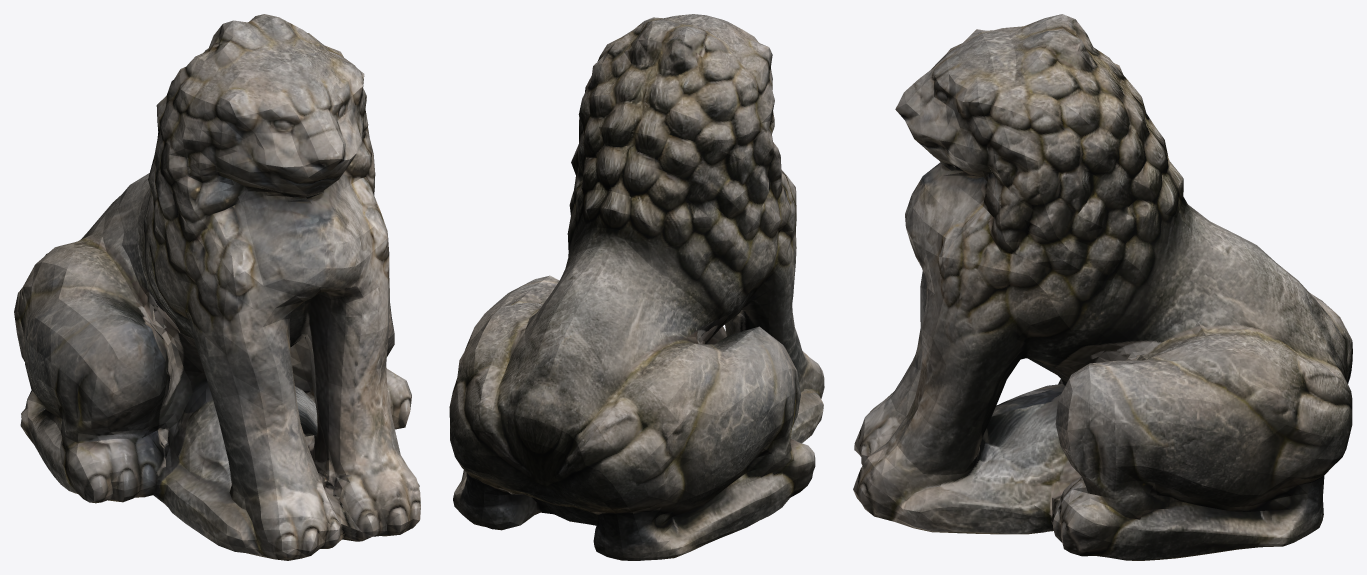
Rendered from statue.fbx.
3 renders of one model, left to right at view 1: azimuth 30°, elevation 25°; view 2: azimuth 150°, elevation 25°; view 3: azimuth 270°, elevation 25°, orthographic. The views are drawn at different scales.
Parts seen in each view (by area): view 1: Statue_Low; view 2: Statue_Low; view 3: Statue_Low.
Part boxes in pixels (x1,y1,x2,y2): Statue_Low: (14,14,420,560); Statue_Low: (449,14,824,560); Statue_Low: (853,14,1352,560).
Bounding box in the file's own units: 74.59 × 99.42 × 96.43.
1 material, 1 textured.
